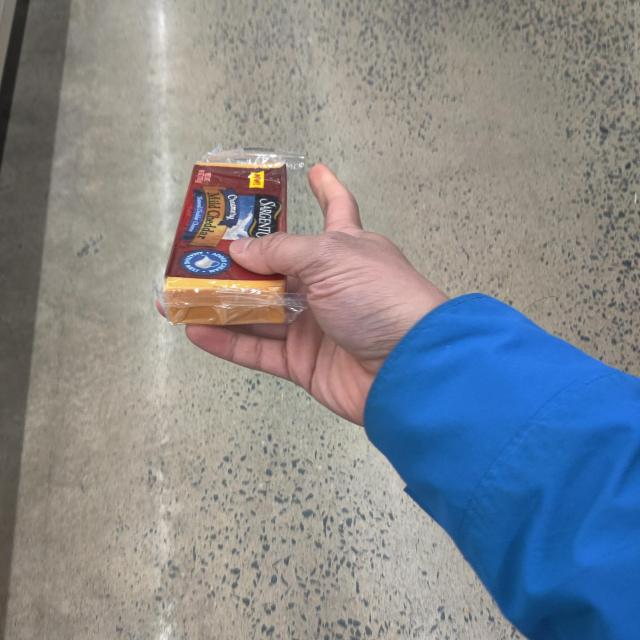Cheese: (156, 146, 309, 324)
